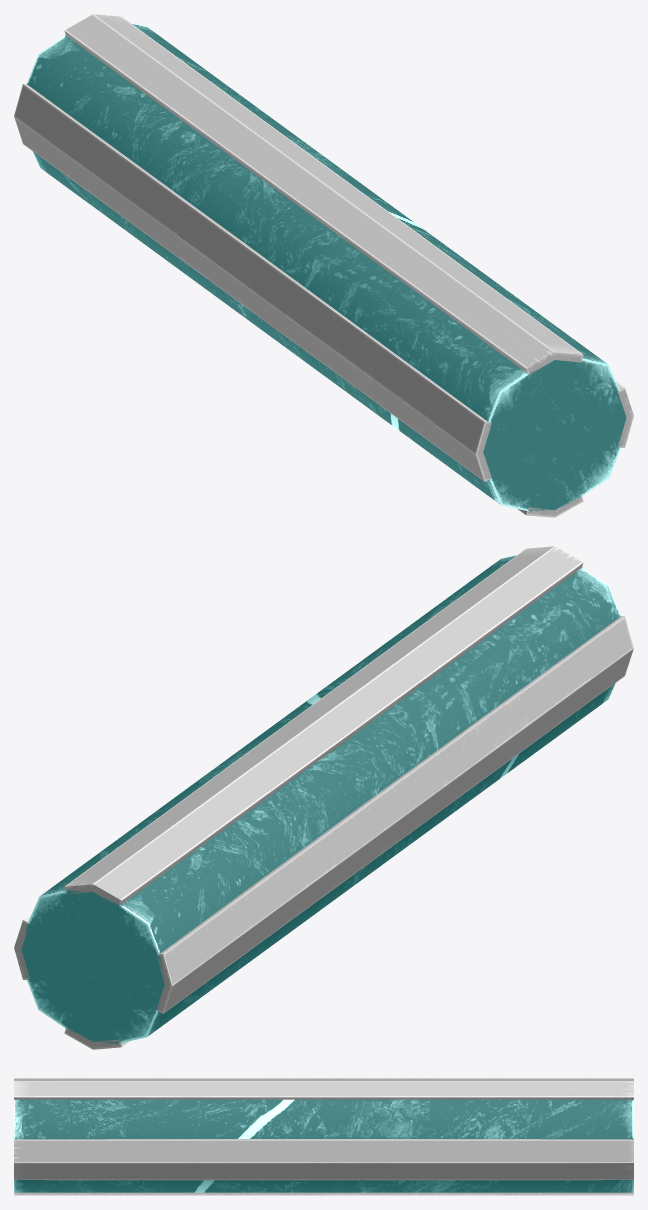
Rendered from Pipe_Tip_Emissive.glb.
3 views of the same model, one above another, from view 1: azimuth 30°, elevation 25°; view 2: azimuth 150°, elevation 25°; view 3: azimuth 270°, elevation 25° (orthographic). The views are drawn at different scales.
Visible parts, largest first — view 1: add_pipe.001; view 2: add_pipe.001; view 3: add_pipe.001.
Boxes of the visible parts, x1,y1,x2,y2 form: add_pipe.001: [14, 14, 633, 517]; add_pipe.001: [14, 546, 633, 1049]; add_pipe.001: [14, 1078, 633, 1195].
Size of what is drawn, in the model's own units: 0.5111 by 0.5111 by 2.59.
1 material, 1 textured.
